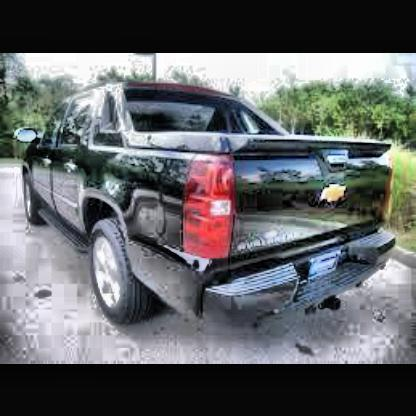Chevrolet Avalanche Crew Cab 2012: (16, 82, 403, 330)
